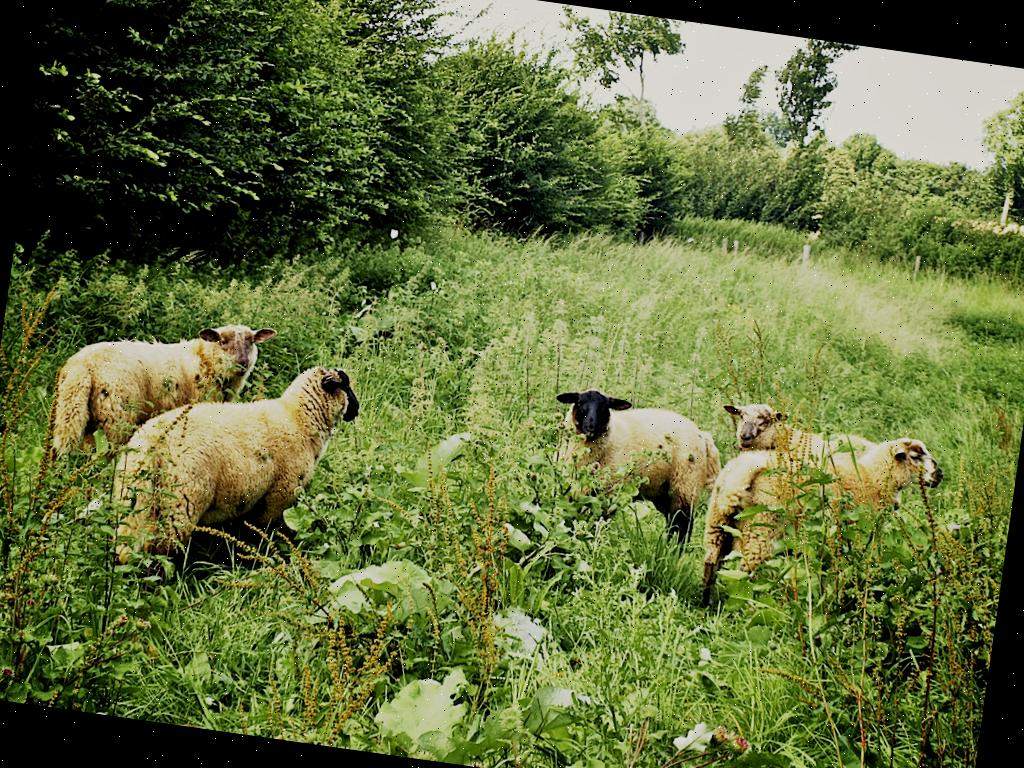Sheep: (102, 340, 366, 592), (694, 410, 948, 635), (51, 300, 275, 482), (538, 384, 732, 546), (712, 400, 896, 516)
